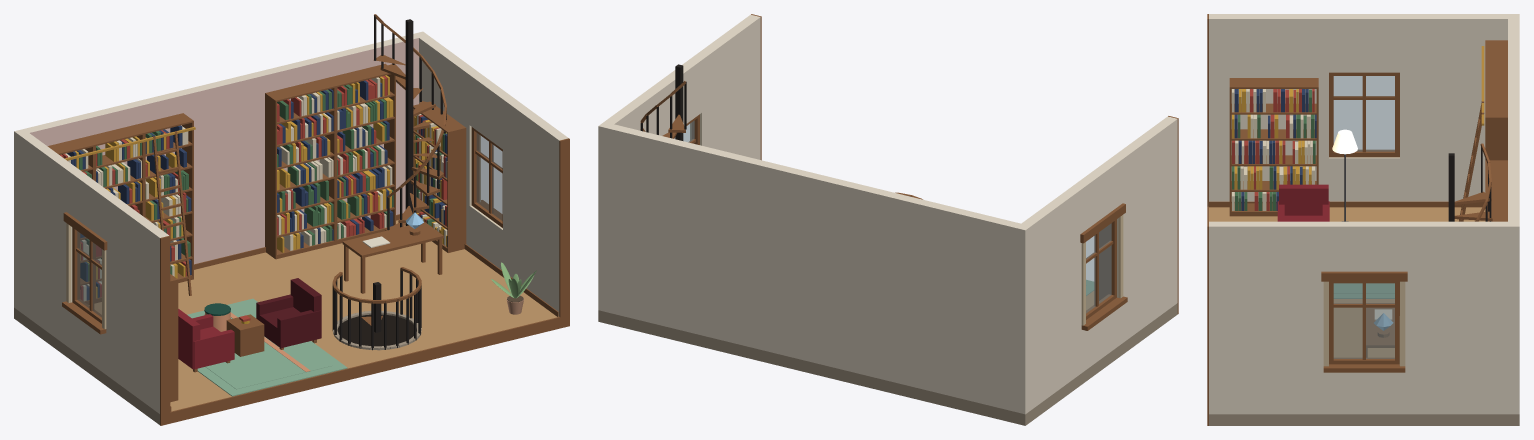
File: map-library.glb
3 views of the same model, side by side, from view 1: azimuth 30°, elevation 25°; view 2: azimuth 150°, elevation 25°; view 3: azimuth 270°, elevation 25° (orthographic). The views are drawn at different scales.
Parts seen in each view (by area): view 1: Walls, Floor_Slab, Shelf_Back_R, Shelf_Back_L, Reading_Corner, Shelf_E, Roof_Stair, Living_Rug, Stairwell_Down, Windows_Glass, Library_Ladder, Shelf_W (+2 smaller); view 2: Walls, Floor_Slab, Windows_Glass, Roof_Stair, Shelf_W; view 3: Walls, Shelf_W, Floor_Slab, Windows_Glass, Reading_Corner, Shelf_Back_L, Roof_Stair, Shelf_Back_R, Living_Rug, Library_Ladder, Floor_Lamp.
Part boxes in pixels (left/top/right/bottom): Walls: left=14, top=31, right=569, bottom=425; Floor_Slab: left=14, top=220, right=558, bottom=424; Shelf_Back_R: left=265, top=63, right=395, bottom=259; Shelf_Back_L: left=47, top=113, right=193, bottom=304; Reading_Corner: left=178, top=212, right=443, bottom=372; Shelf_E: left=413, top=101, right=466, bottom=252; Roof_Stair: left=373, top=14, right=446, bottom=230; Living_Rug: left=187, top=298, right=347, bottom=396; Stairwell_Down: left=332, top=267, right=421, bottom=350; Windows_Glass: left=77, top=133, right=502, bottom=317; Library_Ladder: left=64, top=126, right=195, bottom=295; Shelf_W: left=170, top=274, right=178, bottom=402; Walls: left=598, top=14, right=1178, bottom=414; Floor_Slab: left=598, top=291, right=1177, bottom=425; Windows_Glass: left=674, top=120, right=1111, bottom=313; Roof_Stair: left=640, top=64, right=686, bottom=140; Shelf_W: left=1099, top=225, right=1108, bottom=300; Walls: left=1207, top=14, right=1519, bottom=425; Shelf_W: left=1229, top=78, right=1318, bottom=216; Floor_Slab: left=1209, top=207, right=1519, bottom=425; Windows_Glass: left=1333, top=76, right=1394, bottom=358; Reading_Corner: left=1277, top=184, right=1394, bottom=357; Shelf_Back_L: left=1485, top=40, right=1507, bottom=160; Roof_Stair: left=1448, top=143, right=1492, bottom=221; Shelf_Back_R: left=1485, top=160, right=1507, bottom=221; Living_Rug: left=1333, top=283, right=1394, bottom=298; Library_Ladder: left=1459, top=46, right=1484, bottom=221; Floor_Lamp: left=1332, top=129, right=1357, bottom=221.
Bounding box in the file's own units: 8.74 × 4.63 × 5.28.
